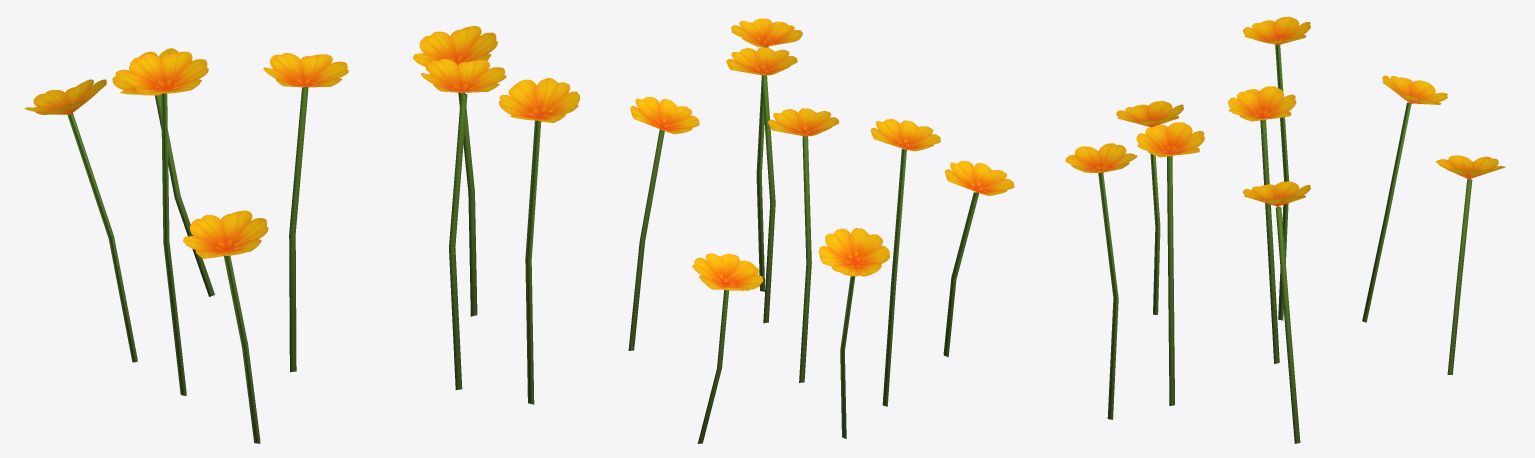
The picture shows the model from 3 angles, left to right: view 1: azimuth 30°, elevation 25°; view 2: azimuth 150°, elevation 25°; view 3: azimuth 270°, elevation 25°; orthographic projection. The views are drawn at different scales.
Parts seen in each view (by area): view 1: pl-flowers-yellow; view 2: pl-flowers-yellow; view 3: pl-flowers-yellow.
Part boxes in pixels (x1,y1,x2,y2): pl-flowers-yellow: [24, 26, 579, 443]; pl-flowers-yellow: [628, 18, 1014, 443]; pl-flowers-yellow: [1065, 16, 1505, 443].
Bounding box in the file's own units: 0.6941 × 0.5755 × 0.8343.
1 material, 1 textured.
